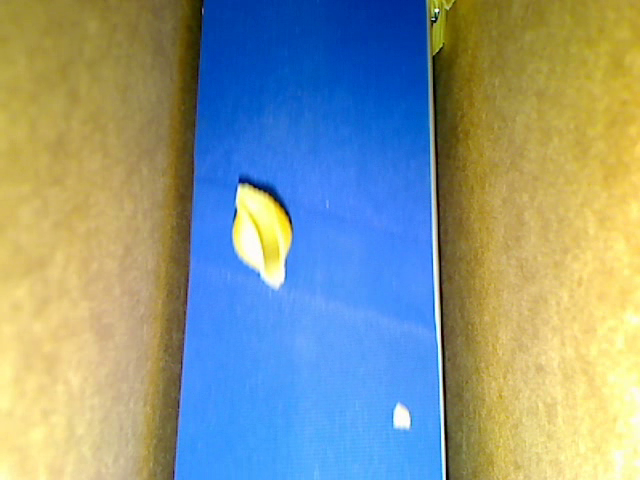penne: (430, 1, 444, 56), (441, 1, 457, 13)
shell: (228, 180, 294, 288)
